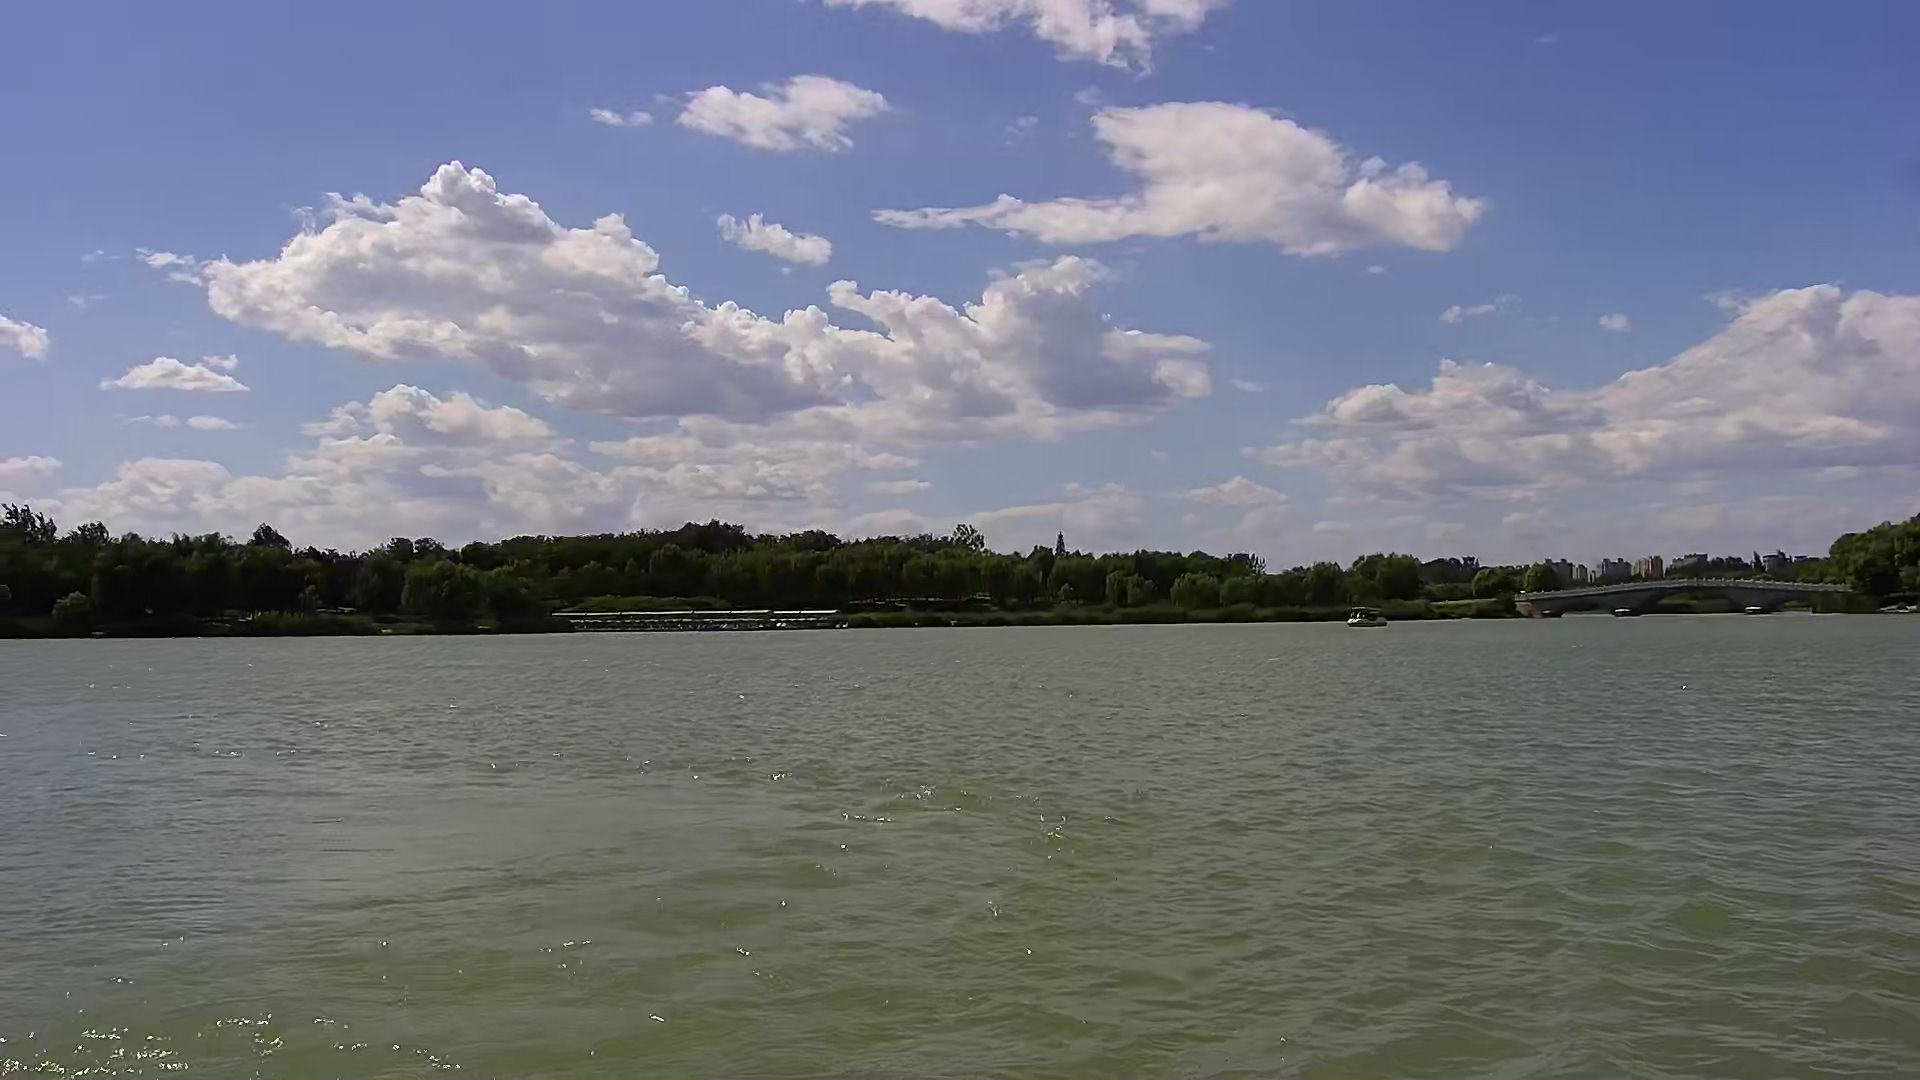boat: (1349, 608, 1393, 629)
bridge: (1514, 579, 1849, 618), (559, 611, 840, 629)
